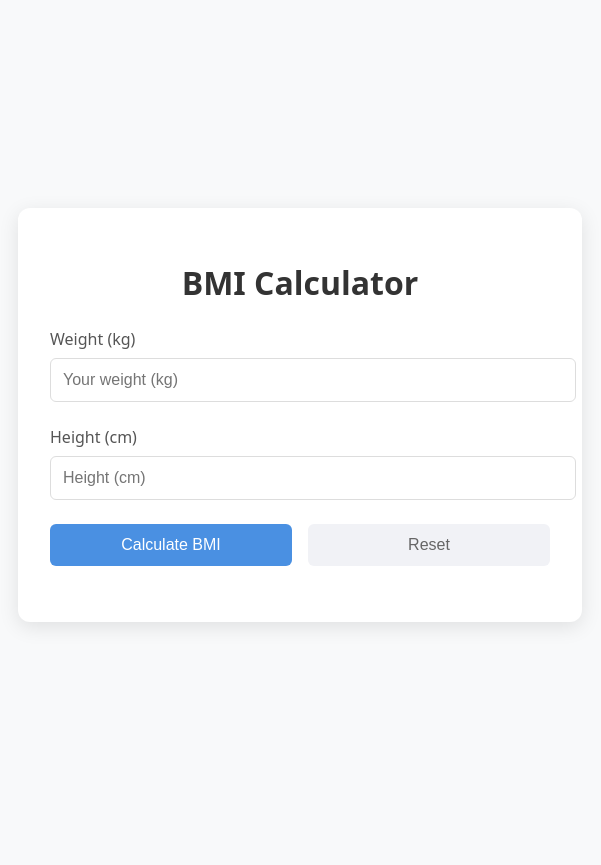
Test: BMI Categories › BMI < 18.5 - Underweight
Step 1. Type "50" into the number field labelled "Weight (kg)" → (313, 380), box [50, 358, 576, 402]
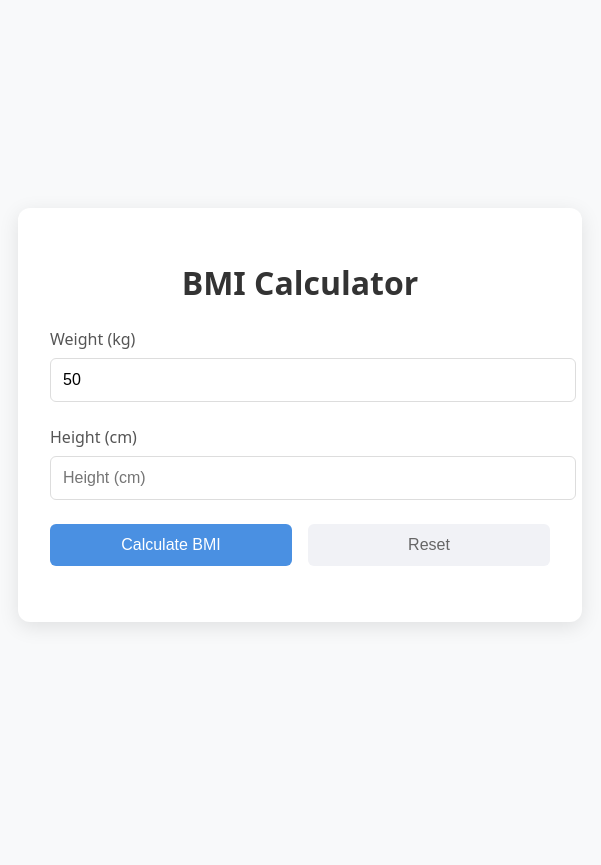
Step 2. Type "175" into the number field labelled "Height (cm)" → (313, 478), box [50, 456, 576, 500]
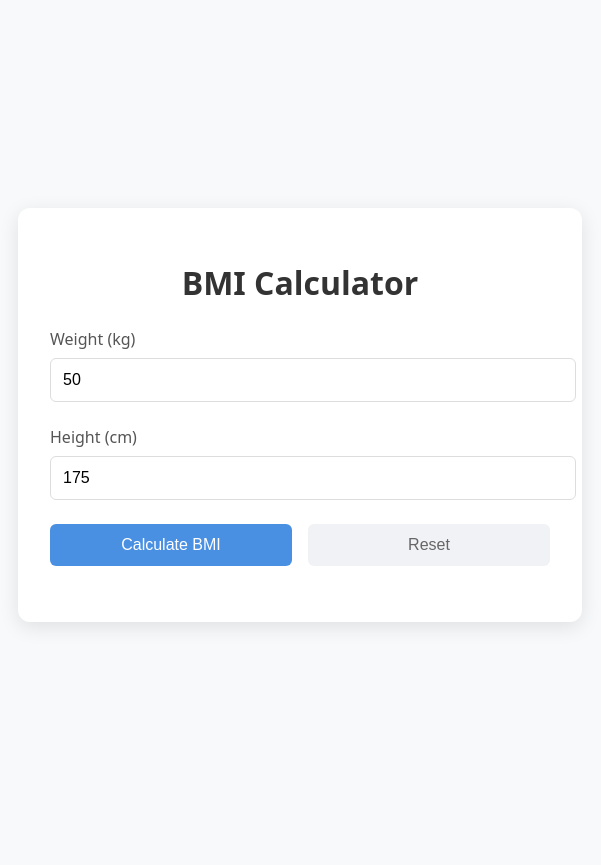
Step 3. Click the button "Calculate BMI" → click(171, 545), box [50, 524, 292, 566]
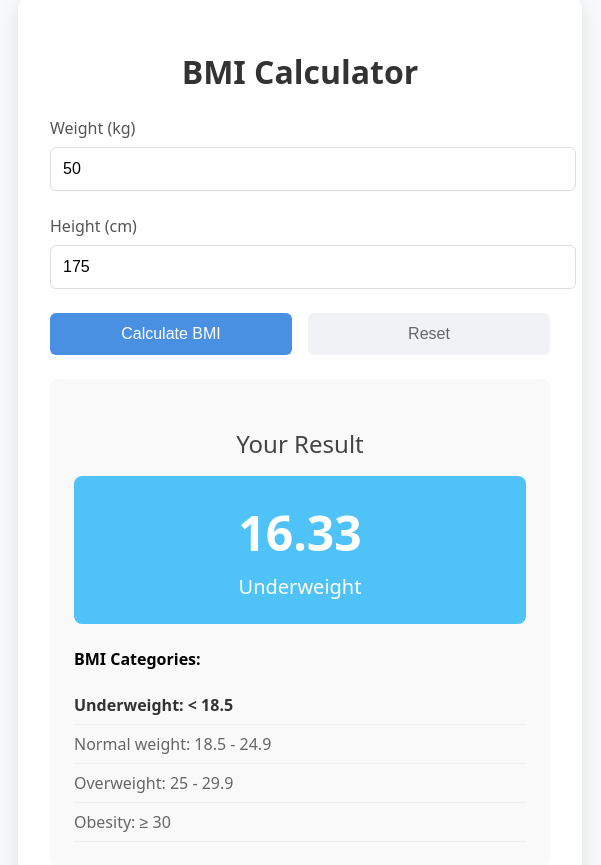
Now the text "Underweight" is shown, box [239, 573, 362, 600]
